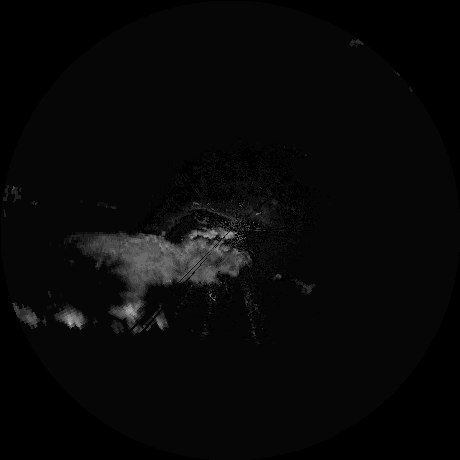frontgust: (188, 202, 245, 223)
